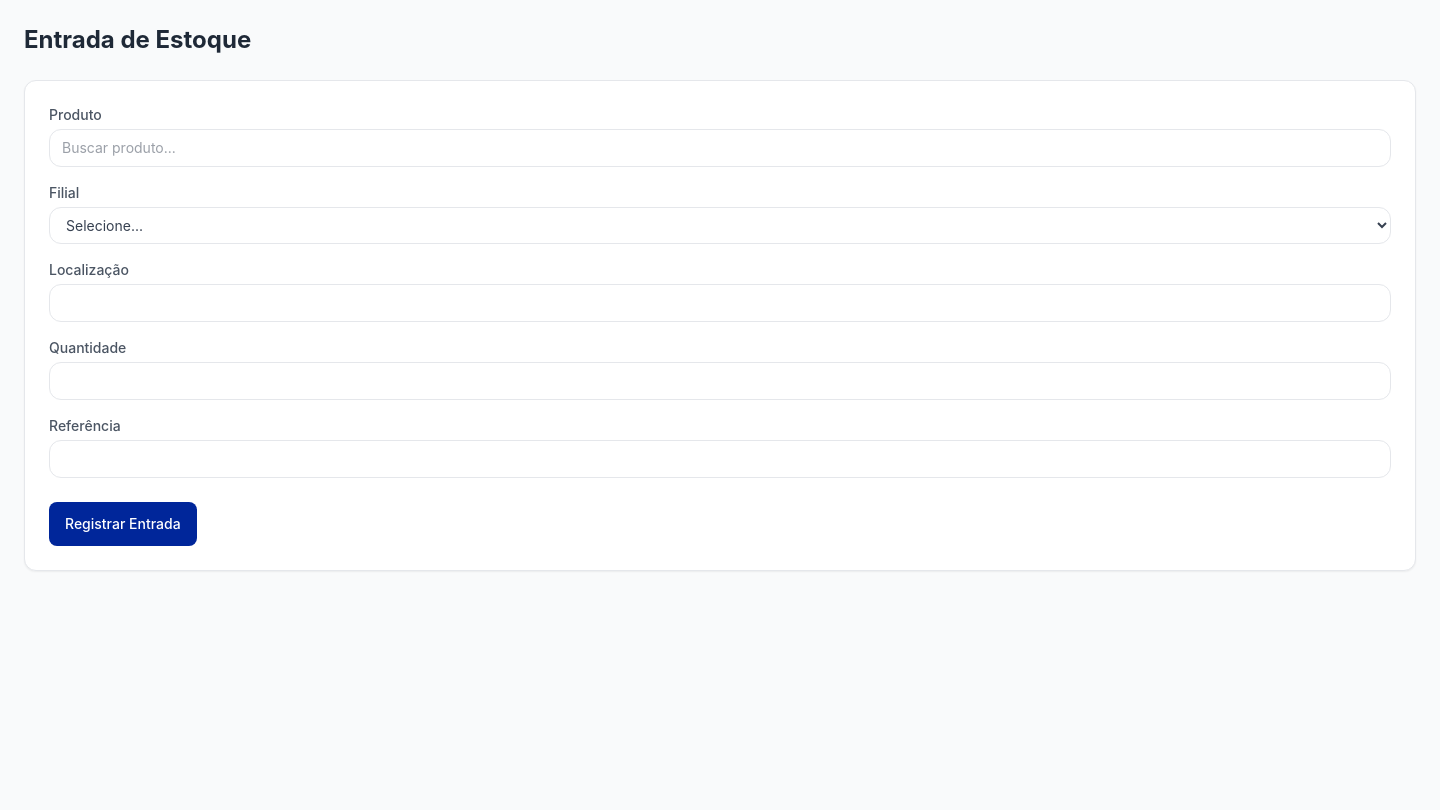
Test: ReceiptForm › shows validation errors for empty fields
Click the button "Registrar Entrada": point(123, 524) [49,502,197,546]
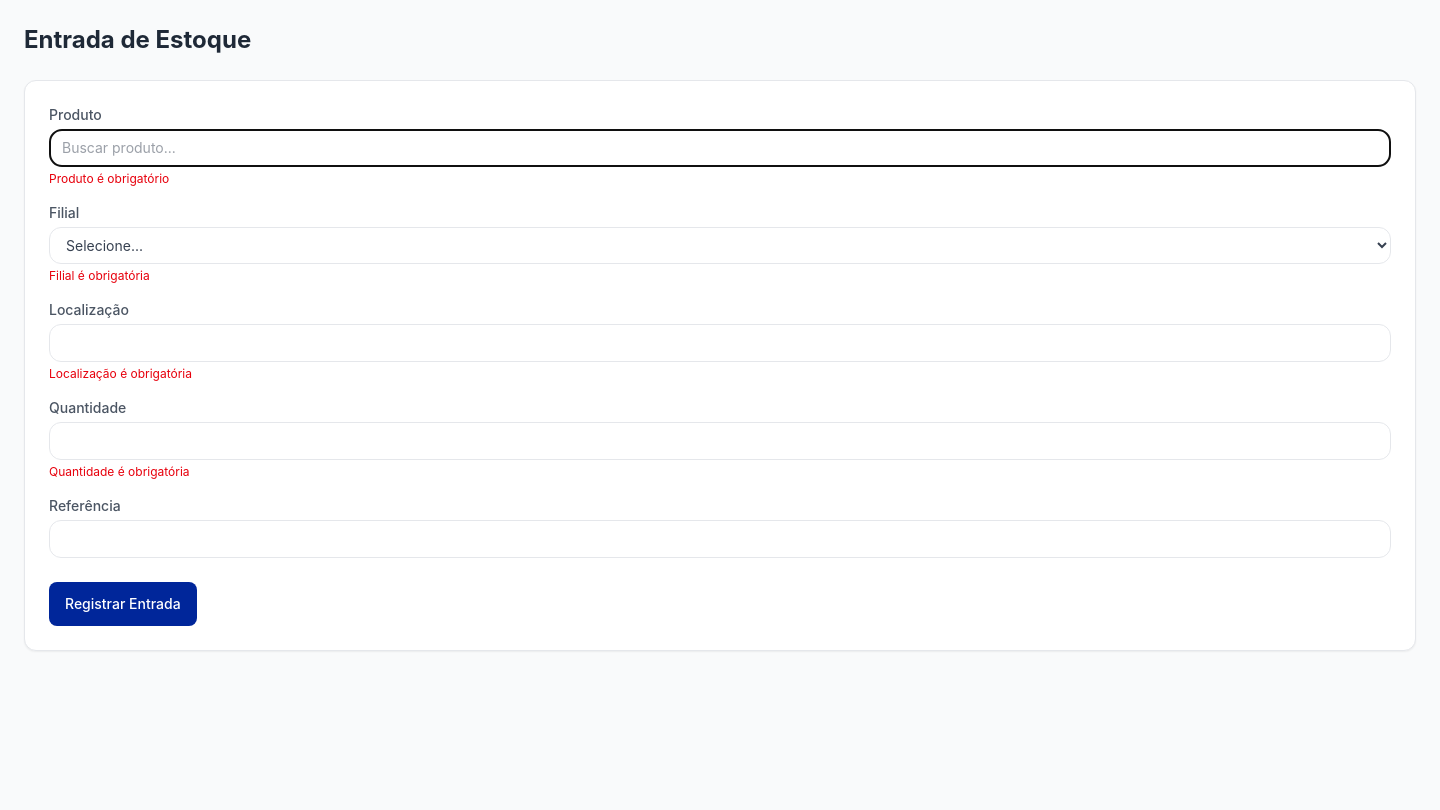
Result: the text "Produto é obrigatório" is shown at [49,171,169,186]
